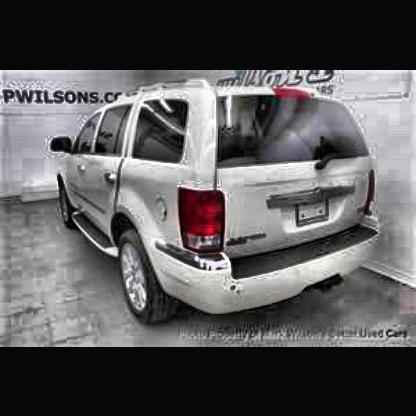Chrysler Aspen SUV 2009: (49, 78, 383, 333)
